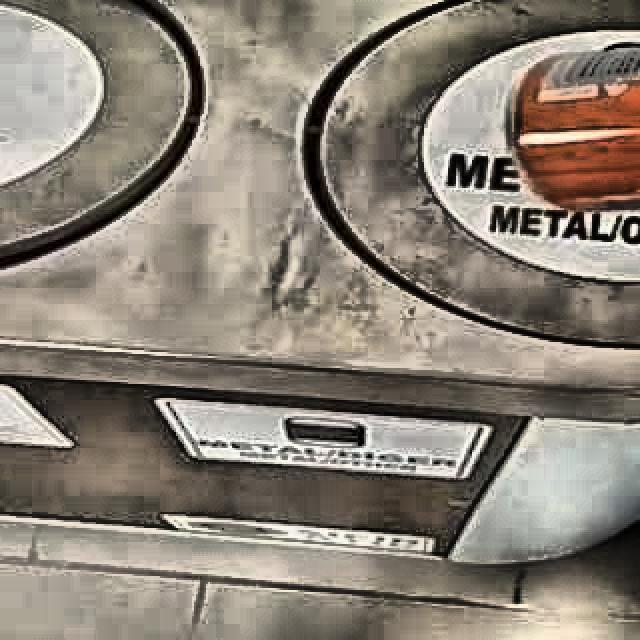metal: (517, 42, 640, 211)
